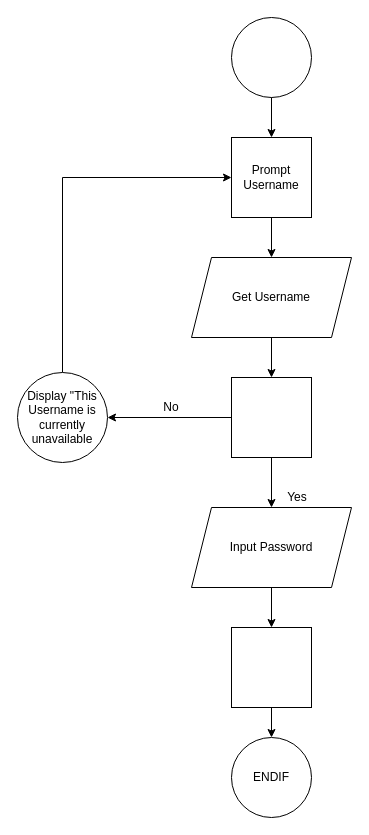
The diagram is 369 pixels wide and 835 high, and some of its shapes have lost their labels. The shapes that lost their labels are listed below. From the top down, each one's centre as x and y in pixels, then its label:
At [271,57]: "START".
At [271,417]: "Is Username available?".
At [271,667]: "Prompt Sign-up".
